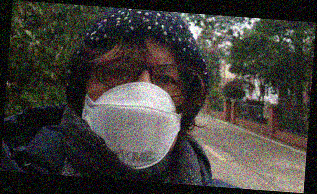with_mask: (82, 50, 187, 169)
